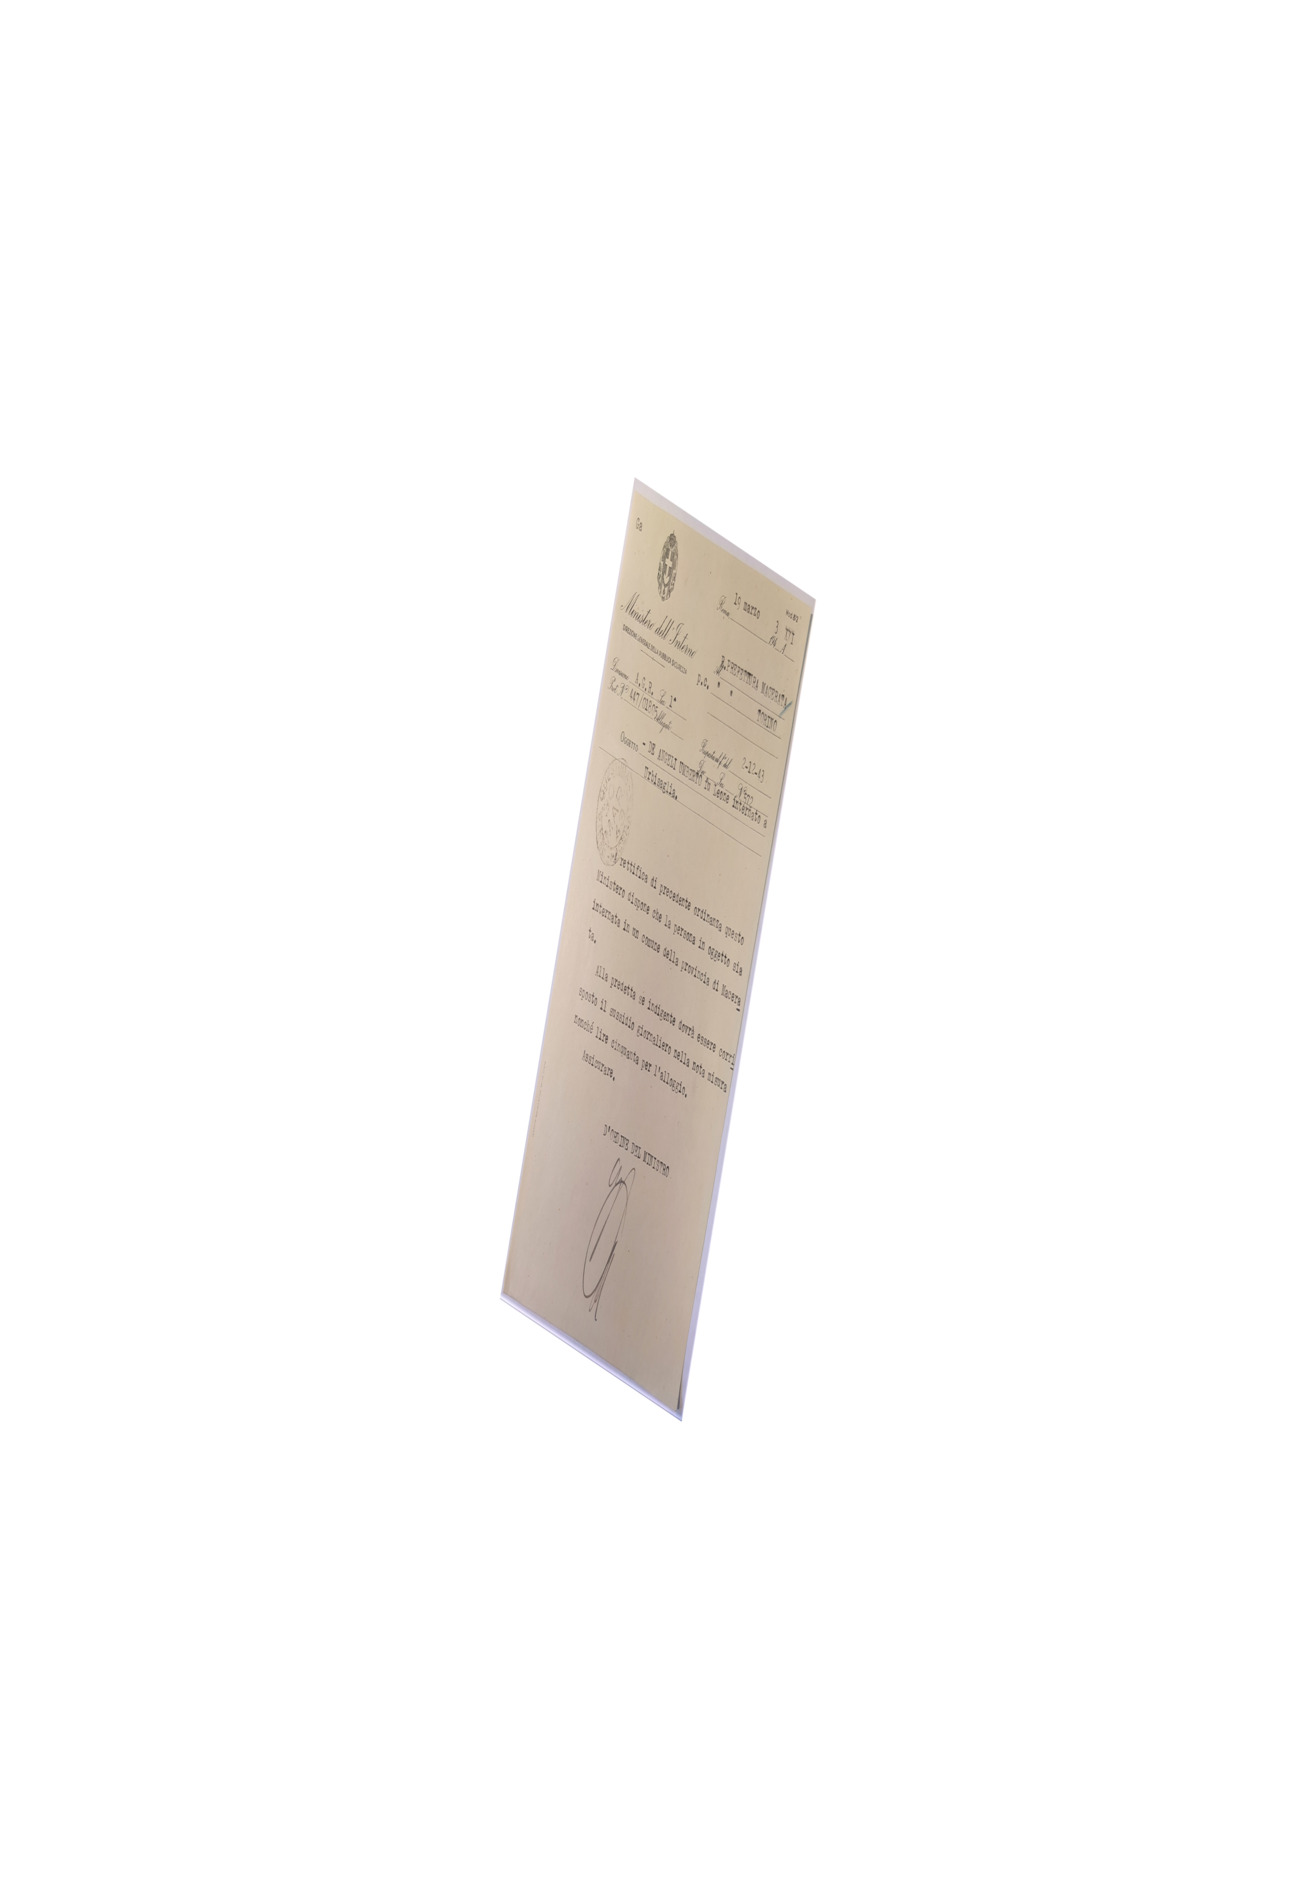stamp: (595, 758, 633, 869)
